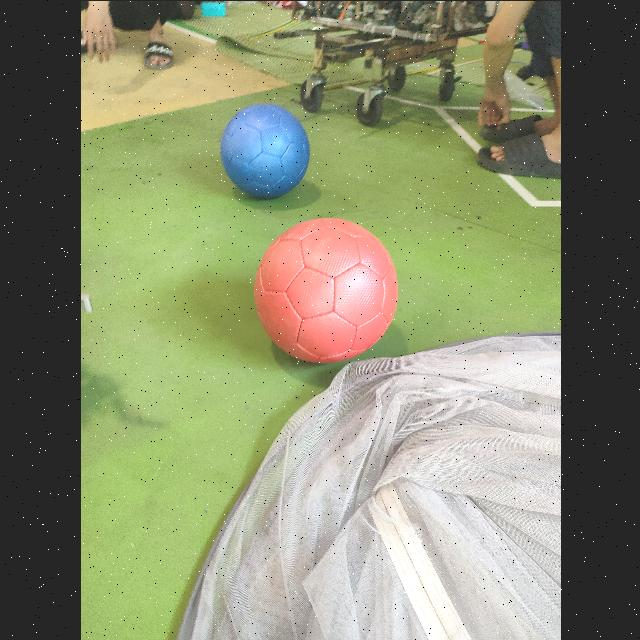B: (218, 104, 310, 202)
R: (252, 217, 399, 366)
